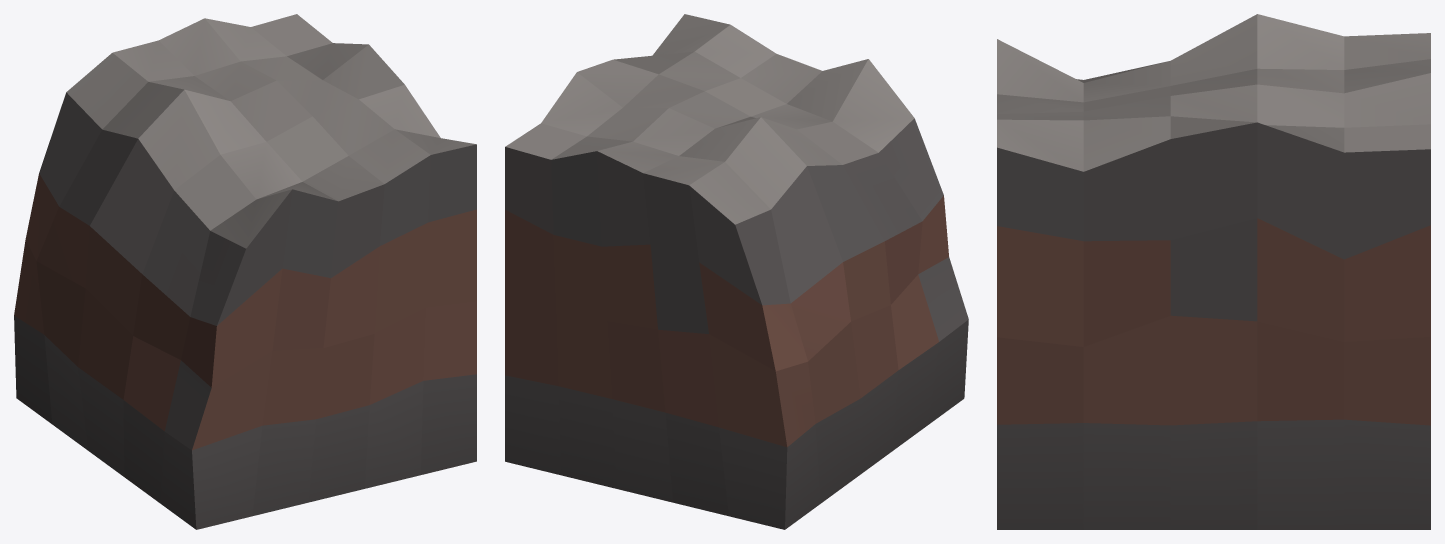
Rendered from roca_te.glb.
The picture shows the model from 3 angles, left to right: view 1: azimuth 30°, elevation 25°; view 2: azimuth 150°, elevation 25°; view 3: azimuth 270°, elevation 25°; orthographic projection. The views are drawn at different scales.
Parts seen in each view (by area): view 1: propforge-cuartos-roca_te; view 2: propforge-cuartos-roca_te; view 3: propforge-cuartos-roca_te.
Part boxes in pixels (x1,y1,x2,y2): propforge-cuartos-roca_te: (14, 14, 476, 529); propforge-cuartos-roca_te: (505, 14, 968, 529); propforge-cuartos-roca_te: (997, 14, 1430, 529).
Bounding box in the file's own units: 0.9233 × 1.04 × 1.
